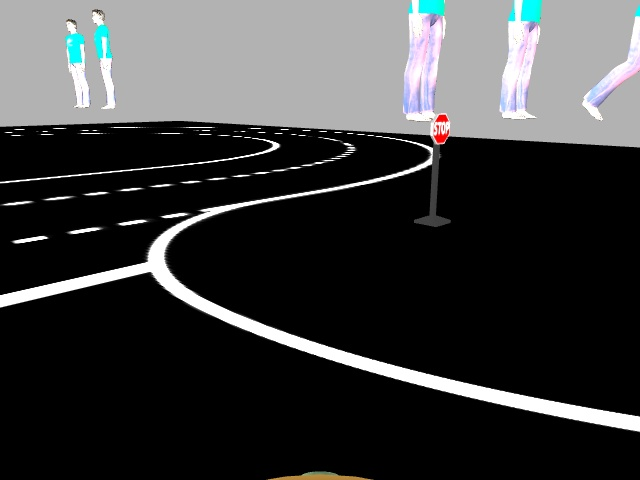Stop: (429, 111, 449, 140)
